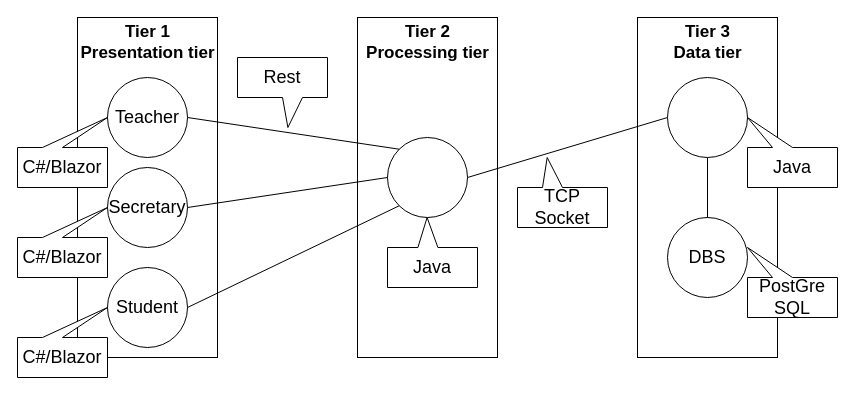
The diagram is 855 pixels wide and 395 high, and some of its shapes have lost their labels. Here are the shapes that lost their labels. From the top down, the centre of each, then its label:
At point 707,117: "DBS Server".
At point 427,177: "Middle Server".
